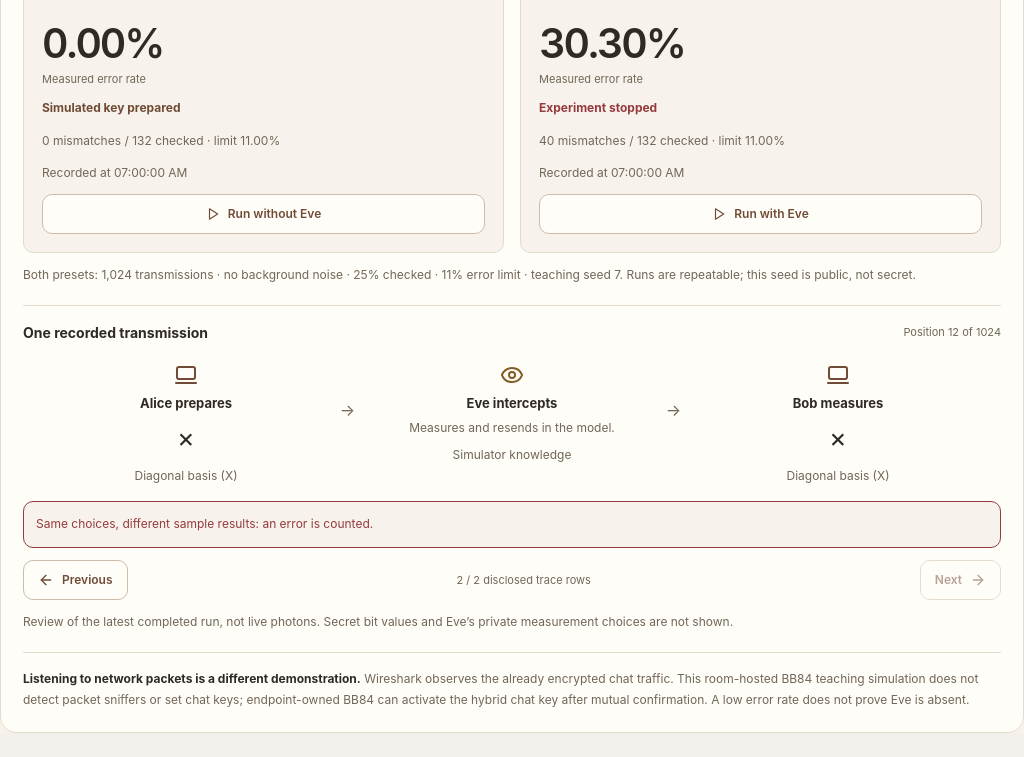
it: panel eavesdropping comparison › retains two actual reports and depicts only the selected disclosed transmission
(page scrolled)
Expected: the text "0.00%" is shown, x1=42 y1=18 x2=163 y2=68
Expected: the text "30.30%" is shown, x1=539 y1=18 x2=685 y2=68
Click the button with aria-label "Previous recorded transmission" at (75, 580), box x1=23 y1=560 x2=128 y2=600
(page scrolled)
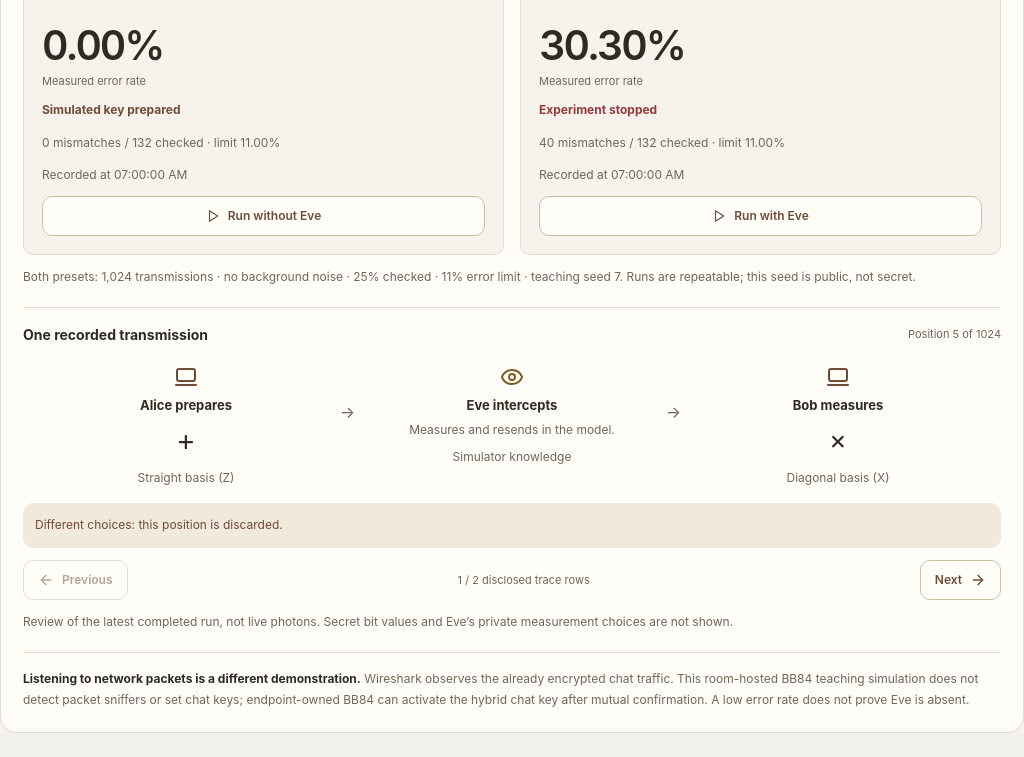
Now the text "Position 5 of 1024" is shown, box x1=908 y1=328 x2=1001 y2=342
Now the text "Different choices: this position is discarded." is shown, box x1=23 y1=504 x2=1001 y2=548
Now the button with aria-label "Previous recorded transmission" is disabled, box x1=23 y1=560 x2=128 y2=600
